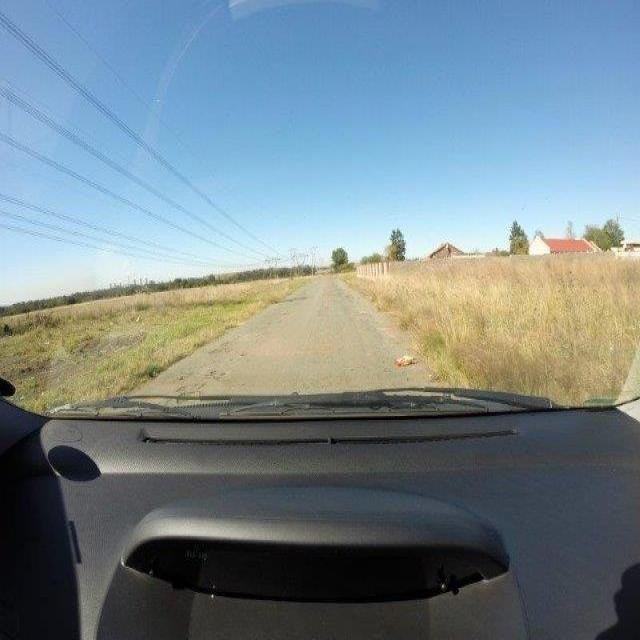lubang: (169, 372, 211, 394), (206, 364, 230, 382)
